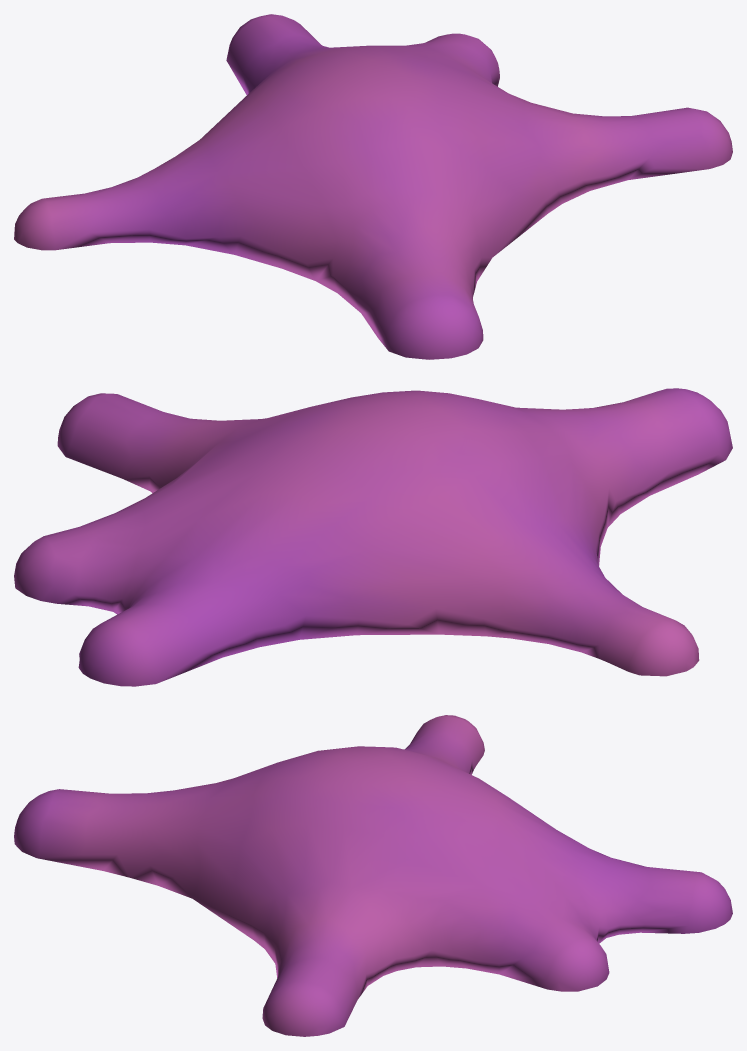
Rendered from goop-splat1.glb.
The picture shows the model from 3 angles, top to bottom: view 1: azimuth 30°, elevation 25°; view 2: azimuth 150°, elevation 25°; view 3: azimuth 270°, elevation 25°; orthographic projection. The views are drawn at different scales.
Parts seen in each view (by area): view 1: body; view 2: body; view 3: body.
Part boxes in pixels (bbox=[...]): body: bbox=[14, 14, 732, 359]; body: bbox=[14, 388, 732, 686]; body: bbox=[14, 715, 732, 1036].
Bounding box in the file's own units: 0.3492 × 0.0662 × 0.3538.
